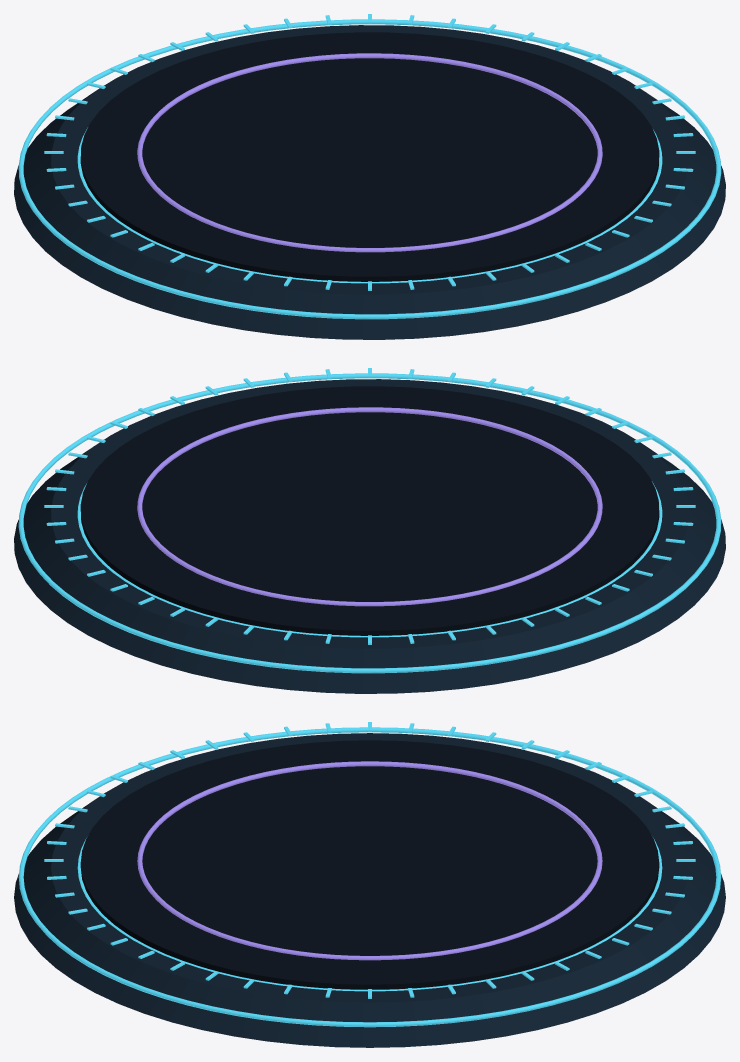
File: 01_central_stage.glb
The picture shows the model from 3 angles, top to bottom: view 1: azimuth 30°, elevation 25°; view 2: azimuth 150°, elevation 25°; view 3: azimuth 270°, elevation 25°; orthographic projection.
Visible parts, largest first — view 1: 01_CENTRAL_STAGE; view 2: 01_CENTRAL_STAGE; view 3: 01_CENTRAL_STAGE.
Part boxes in pixels (x1,y1,x2,y2): 01_CENTRAL_STAGE: (14,14,725,339); 01_CENTRAL_STAGE: (14,368,725,693); 01_CENTRAL_STAGE: (14,722,725,1047).
Size of the model in its own units: 4.8 by 0.2871 by 4.8.
